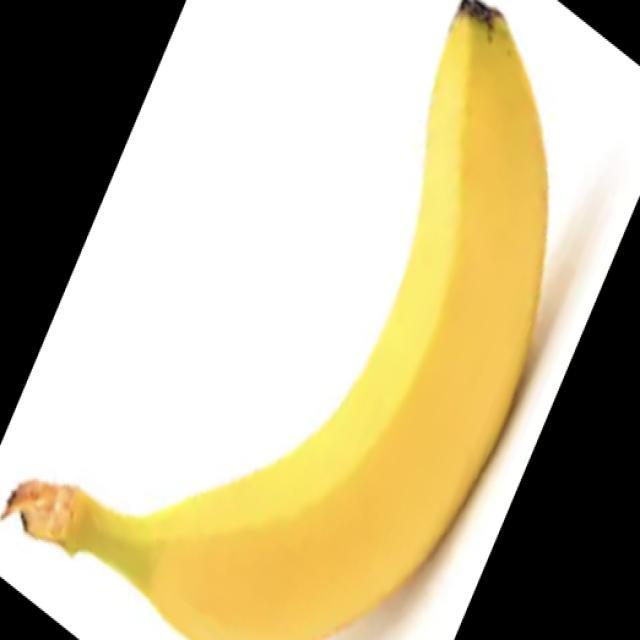Banana: (0, 0, 550, 639)
